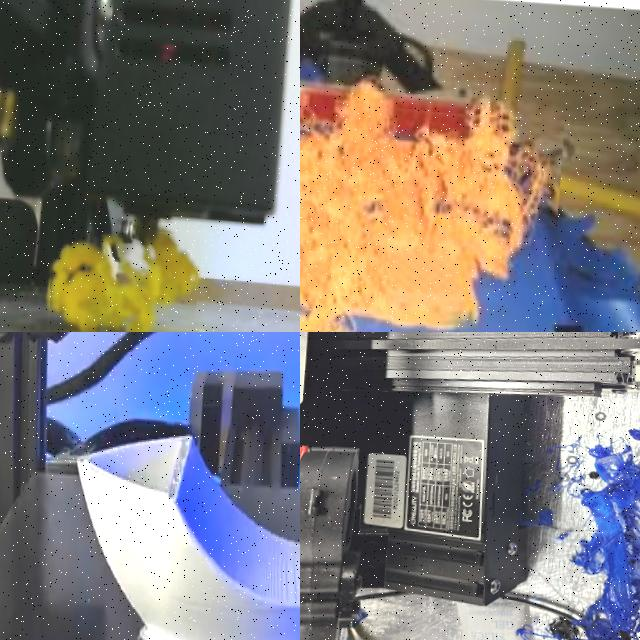spaghetti: (300, 85, 565, 332), (498, 389, 640, 640), (49, 231, 198, 332)
